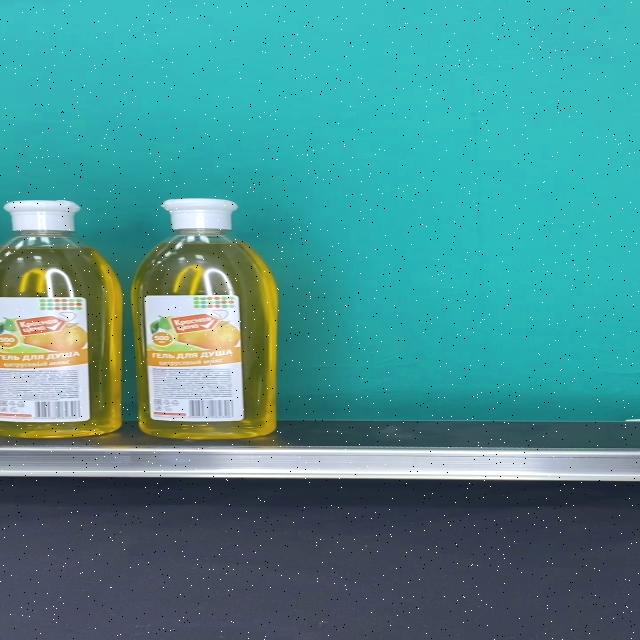Bottle: (131, 198, 278, 439), (0, 200, 122, 439)
Cap: (3, 201, 81, 233), (160, 198, 237, 230)
